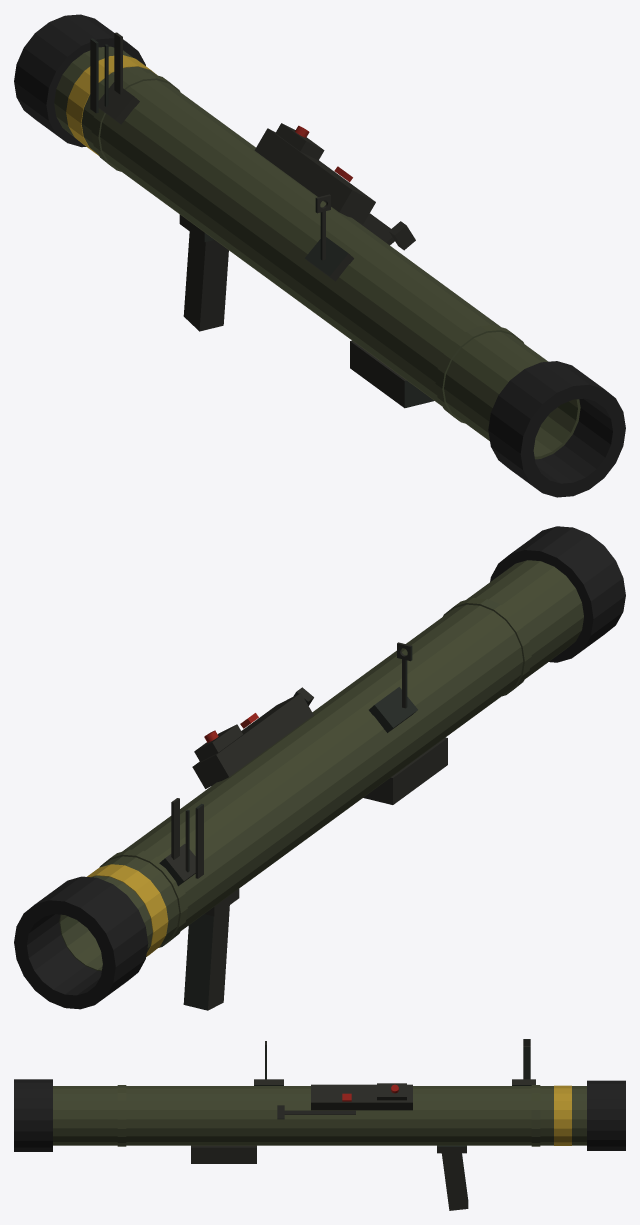
Rendered from launcher_tps.glb.
3 renders of one model, top to bottom at view 1: azimuth 30°, elevation 25°; view 2: azimuth 150°, elevation 25°; view 3: azimuth 270°, elevation 25°, orthographic. The views are drawn at different scales.
Parts seen in each view (by area): view 1: launcher_body, launcher_rubber, launcher_mech, launcher_mark; view 2: launcher_body, launcher_rubber, launcher_mech, launcher_mark; view 3: launcher_body, launcher_mech, launcher_rubber, launcher_mark.
Boxes of the visible parts, x1=… form: launcher_body: x1=54, y1=46, x2=580, y2=459; launcher_rubber: x1=14, y1=14, x2=625, y2=497; launcher_mech: x1=90, y1=32, x2=434, y2=408; launcher_mark: x1=66, y1=55, x2=157, y2=155; launcher_body: x1=59, y1=560, x2=583, y2=970; launcher_rubber: x1=14, y1=526, x2=625, y2=1009; launcher_mech: x1=159, y1=642, x2=447, y2=1010; launcher_mark: x1=87, y1=864, x2=168, y2=956; launcher_body: x1=53, y1=1085, x2=586, y2=1146; launcher_mech: x1=191, y1=1039, x2=535, y2=1210; launcher_rubber: x1=14, y1=1079, x2=625, y2=1151; launcher_mark: x1=554, y1=1085, x2=571, y2=1145.
Bounding box in the file's own units: 0.1339 × 0.2805 × 1.02.
